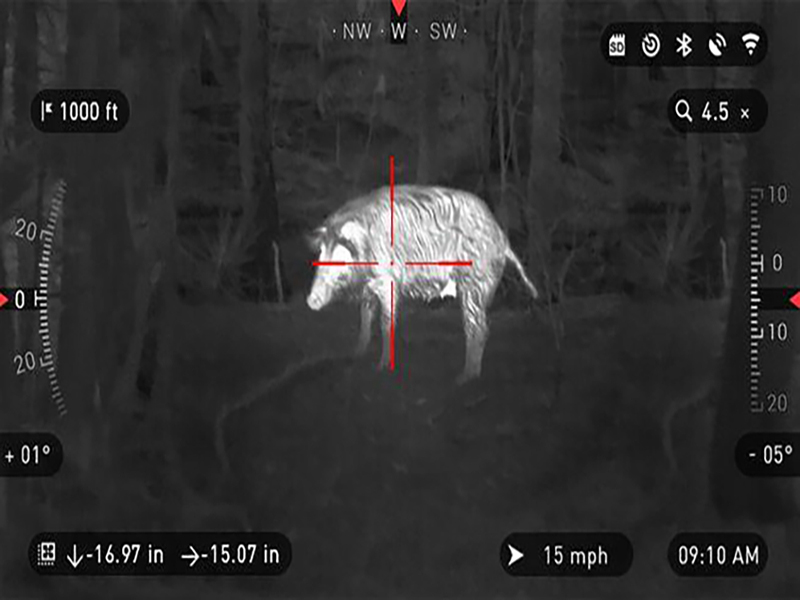cinghiale: (301, 176, 547, 390)
